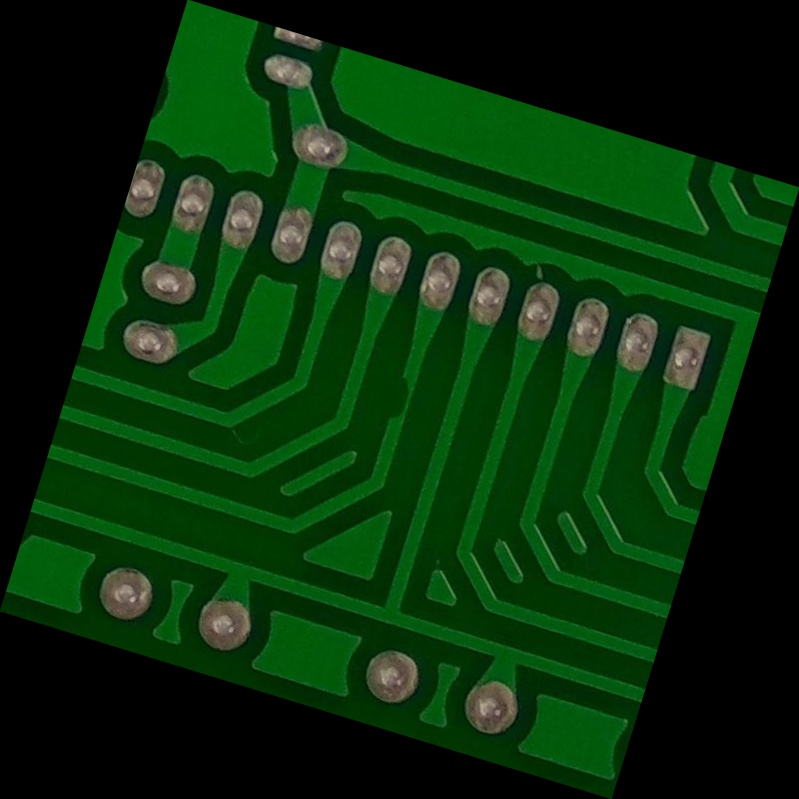mouse_bite: (367, 358, 433, 442)
